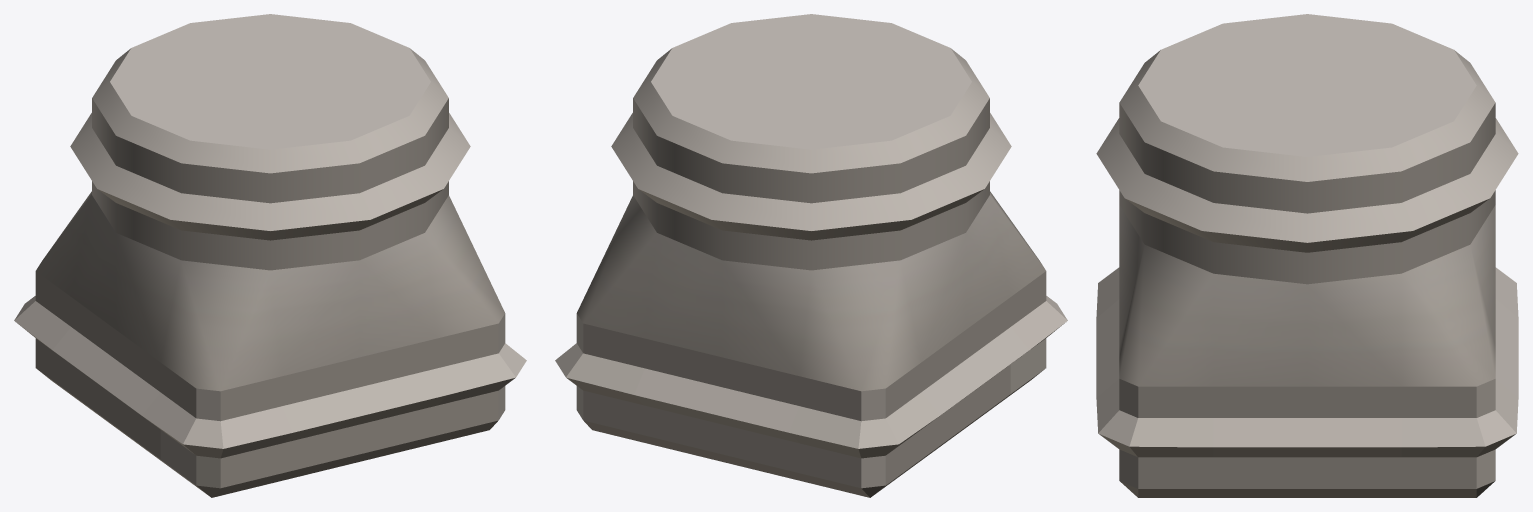
Rendered from m_deco_pillarBottom.FBX.
The picture shows the model from 3 angles, left to right: view 1: azimuth 30°, elevation 25°; view 2: azimuth 150°, elevation 25°; view 3: azimuth 270°, elevation 25°; orthographic projection. The views are drawn at different scales.
Visible parts, largest first — view 1: m_deco_pillarBottom; view 2: m_deco_pillarBottom; view 3: m_deco_pillarBottom.
Part boxes in pixels (bbox=[...]): m_deco_pillarBottom: bbox=[14, 14, 526, 497]; m_deco_pillarBottom: bbox=[555, 14, 1067, 497]; m_deco_pillarBottom: bbox=[1096, 14, 1518, 497].
Size of the model in its own units: 2.24 by 2 by 2.24.
